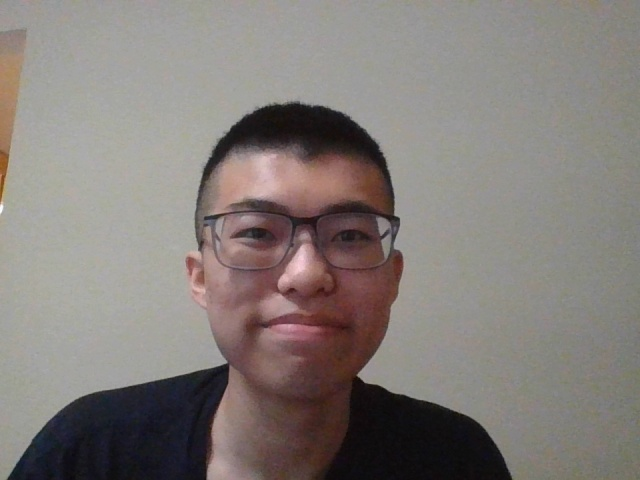happy: (183, 99, 405, 397)
